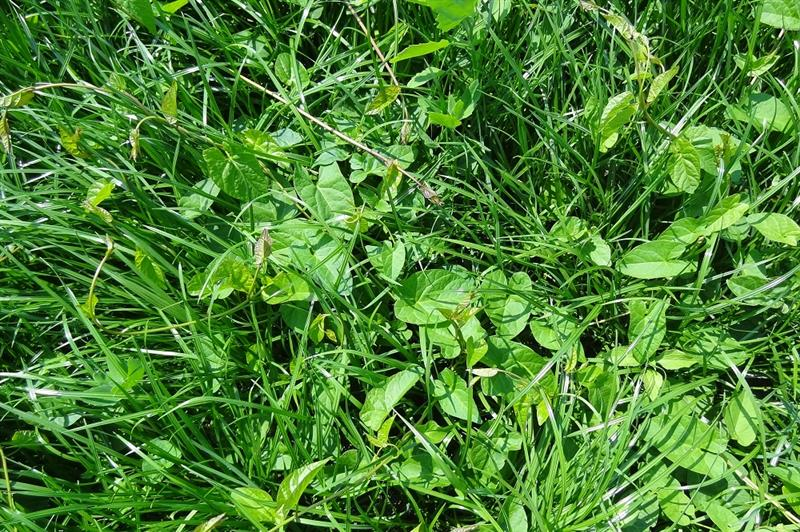haagwinde: (181, 141, 358, 247), (381, 257, 538, 338), (277, 136, 381, 244), (594, 214, 731, 294), (640, 394, 737, 498), (333, 347, 428, 440), (643, 110, 736, 203), (410, 349, 487, 437)
